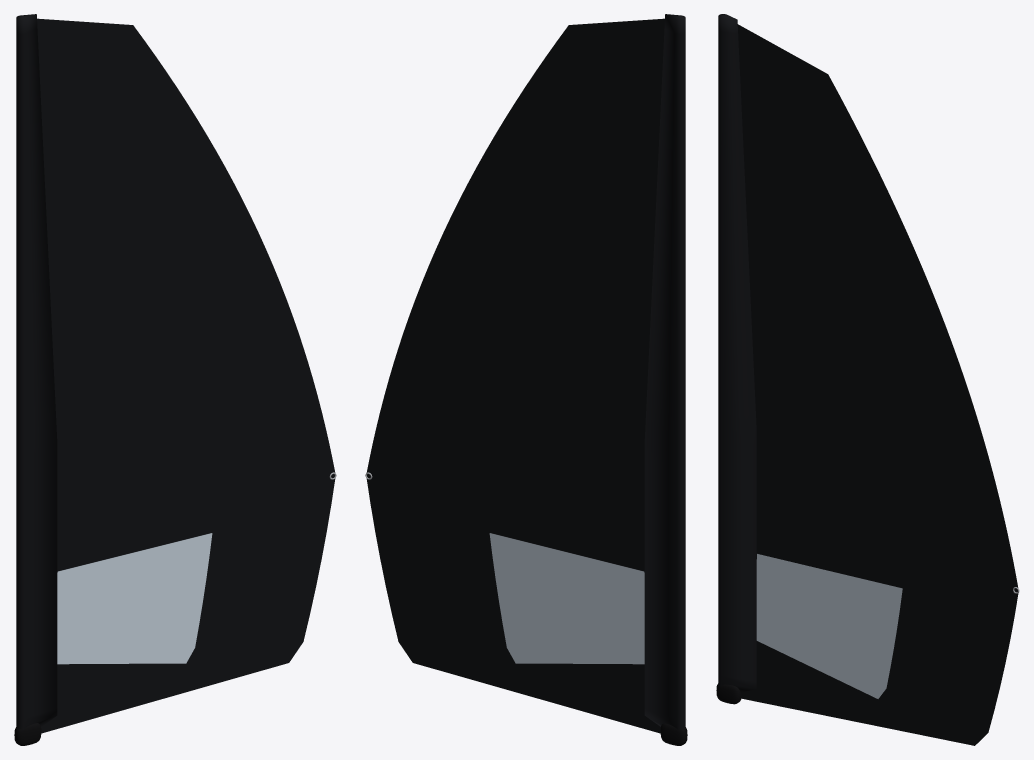
Rendered from point9_slalom_8_8.glb.
3 renders of one model, left to right at view 1: azimuth 30°, elevation 25°; view 2: azimuth 150°, elevation 25°; view 3: azimuth 330°, elevation 25°, orthographic. The views are drawn at different scales.
Visible parts, largest first — view 1: SailCloth; view 2: SailCloth; view 3: SailCloth.
Boxes of the visible parts, box(x1,y1,x2,y2) form: SailCloth: box(16, 14, 335, 733); SailCloth: box(366, 14, 685, 733); SailCloth: box(718, 14, 1018, 745).
Size of the model in its own units: 2.35 by 5.11 by 0.08.
